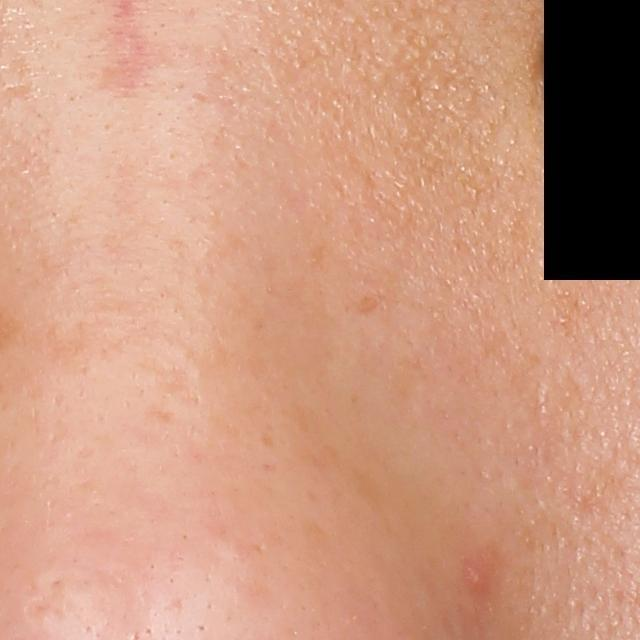atrophic_scar: (22, 571, 77, 629)
papule: (463, 557, 493, 595)
